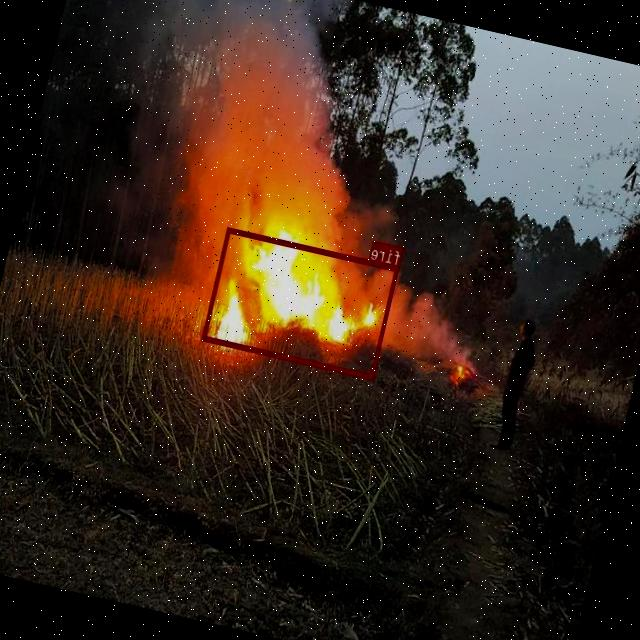fire: (202, 226, 400, 380)
